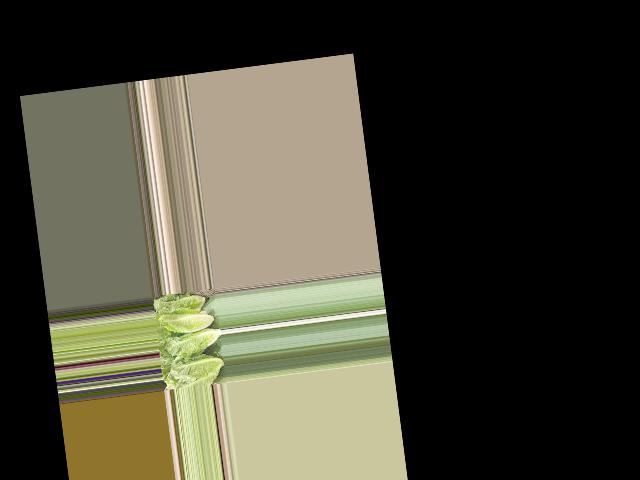lettuce: (153, 294, 204, 315)
